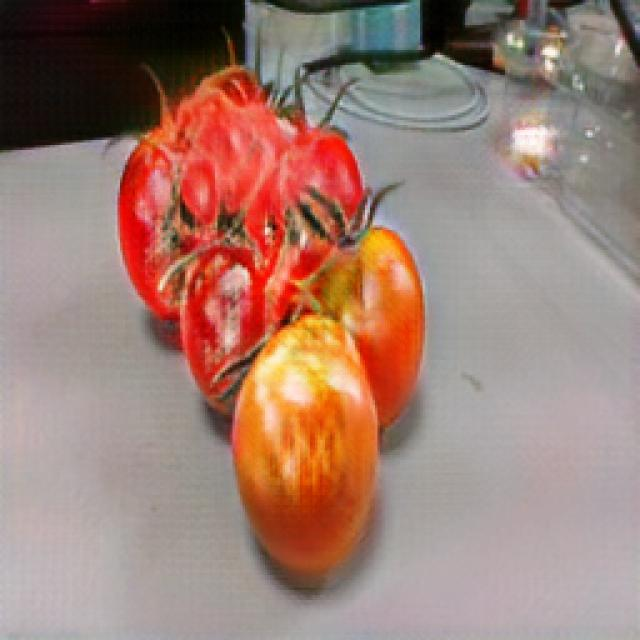overripe tomato: (238, 319, 382, 579), (182, 235, 291, 407), (117, 132, 226, 292)
